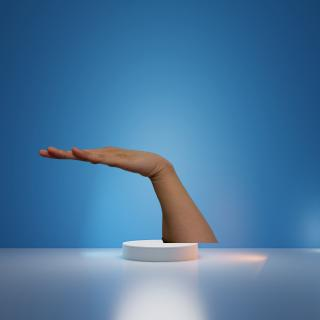WAIT: (31, 137, 167, 177)
